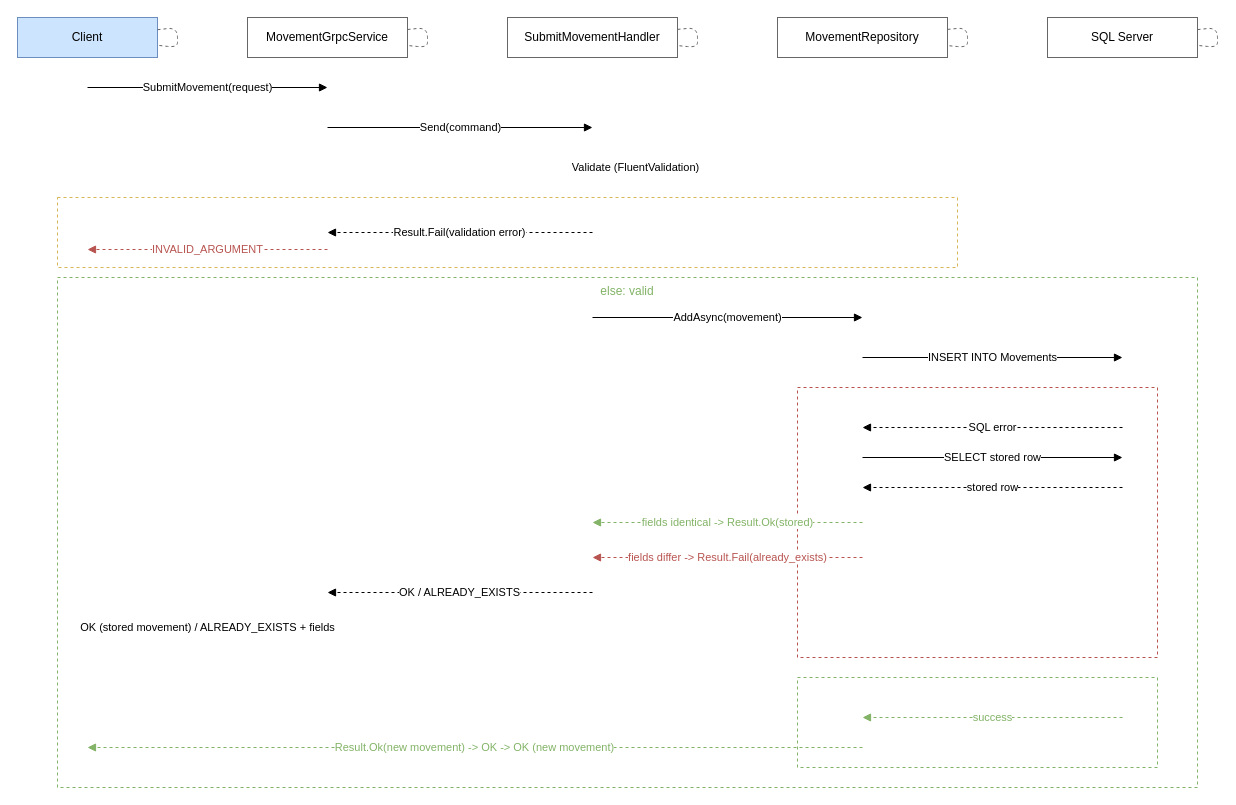
The diagram is 1236 pixels wide and 805 high, and some of its shapes have lost their labels. Here are the shapes that lost their labels. From the top down, the centre of each, then its label:
point 507,232: alt: invalid
point 977,522: alt: unique constraint violation (2627/2601)
point 977,722: else: no conflict
